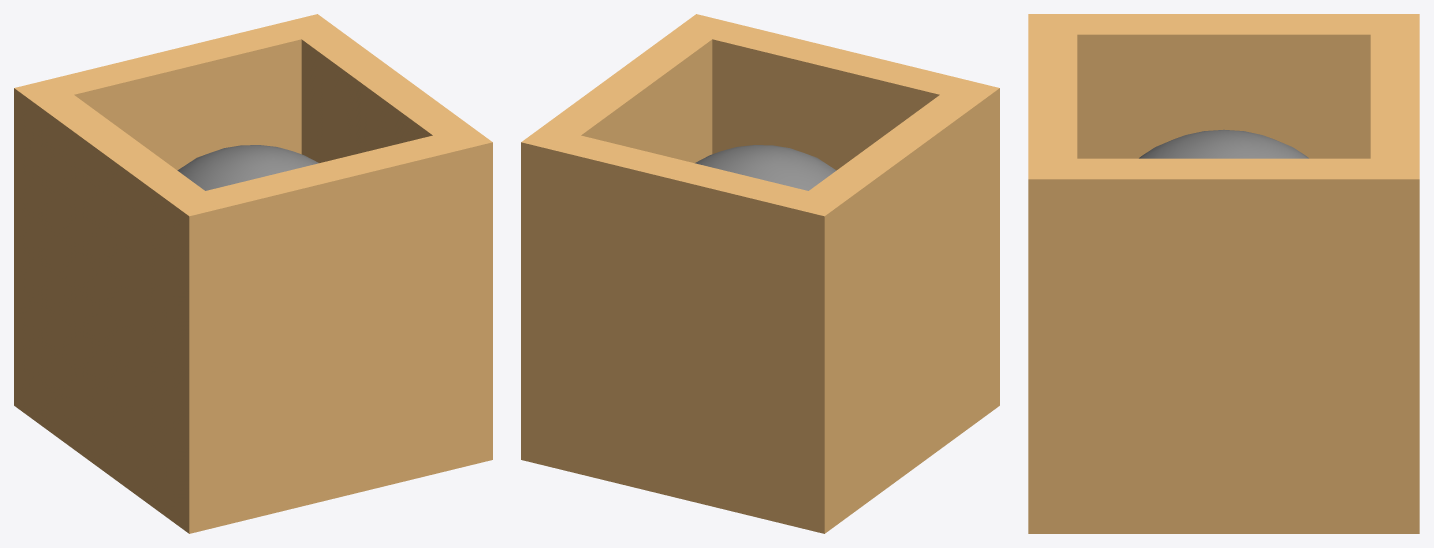
File: houdan_02.fbx
The picture shows the model from 3 angles, left to right: view 1: azimuth 30°, elevation 25°; view 2: azimuth 150°, elevation 25°; view 3: azimuth 270°, elevation 25°; orthographic projection. The views are drawn at different scales.
Parts seen in each view (by area): view 1: houdan; view 2: houdan; view 3: houdan.
Part boxes in pixels (x1,y1,x2,y2): houdan: (14, 14, 492, 533); houdan: (521, 14, 999, 533); houdan: (1028, 14, 1419, 533).
Bounding box in the file's own units: 1 × 1 × 1.
1 material, 1 textured.
